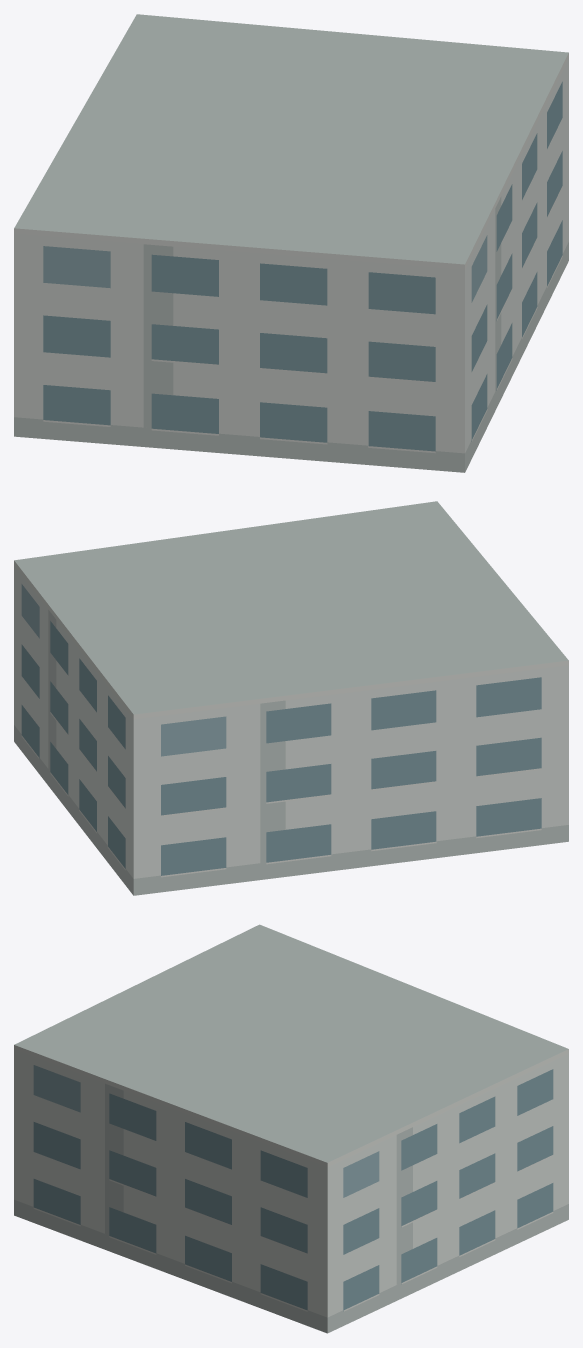
File: survey-upis-32521046.glb
The picture shows the model from 3 angles, top to bottom: view 1: azimuth 30°, elevation 25°; view 2: azimuth 150°, elevation 25°; view 3: azimuth 270°, elevation 25°; orthographic projection. The views are drawn at different scales.
Parts seen in each view (by area): view 1: survey-upis-32521046.tmp; view 2: survey-upis-32521046.tmp; view 3: survey-upis-32521046.tmp.
Boxes of the visible parts, left/top/right/bottom form: survey-upis-32521046.tmp: left=14, top=14, right=568, bottom=472; survey-upis-32521046.tmp: left=14, top=501, right=568, bottom=895; survey-upis-32521046.tmp: left=14, top=924, right=568, bottom=1333.
Bounding box in the file's own units: 27.42 × 9.15 × 26.97.
